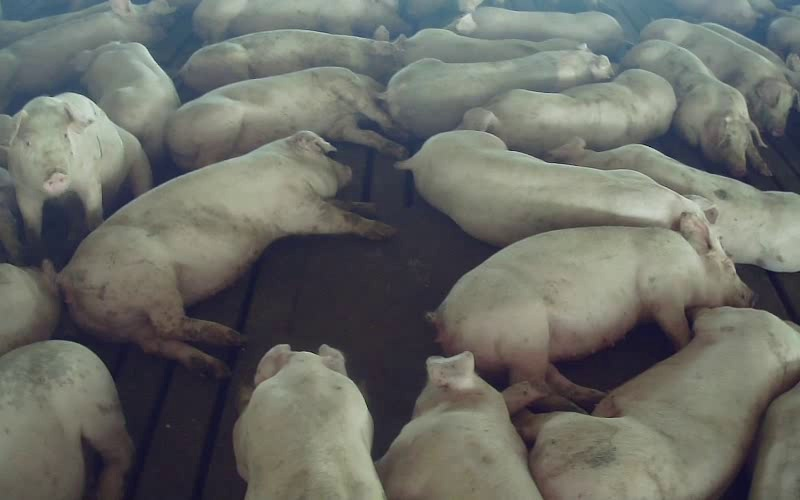pig: (59, 131, 393, 376), (433, 213, 751, 406), (516, 307, 799, 499), (396, 130, 717, 245), (548, 139, 799, 271), (166, 67, 405, 170), (376, 351, 541, 499), (233, 344, 384, 499), (0, 93, 151, 239), (382, 50, 613, 137), (624, 40, 770, 176), (458, 69, 676, 156), (640, 18, 795, 136), (0, 0, 159, 112), (179, 26, 402, 93), (73, 42, 180, 163), (452, 7, 623, 53), (395, 28, 587, 64)
